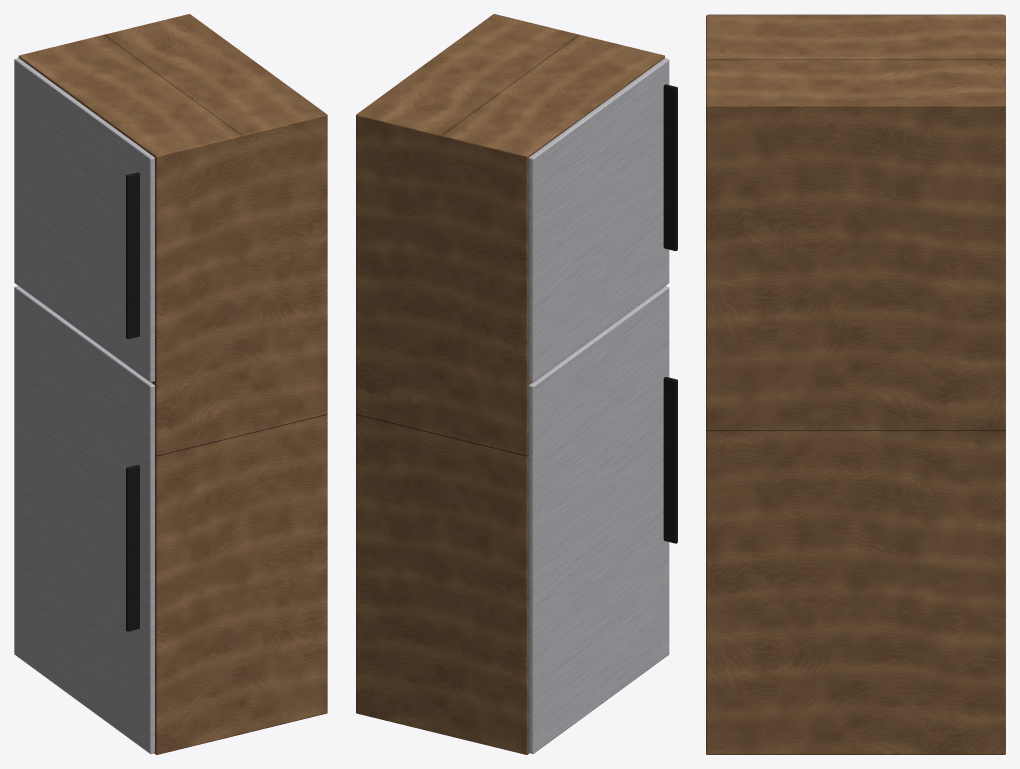
Rendered from kitchen_fridge.glb.
3 views of the same model, side by side, from view 1: azimuth 30°, elevation 25°; view 2: azimuth 150°, elevation 25°; view 3: azimuth 270°, elevation 25° (orthographic). The views are drawn at different scales.
Visible parts, largest first — view 1: kitchen_fridge; view 2: kitchen_fridge; view 3: kitchen_fridge.
Boxes of the visible parts, x1,y1,x2,y2 form: kitchen_fridge: (14, 14, 327, 754); kitchen_fridge: (356, 14, 677, 754); kitchen_fridge: (706, 14, 1005, 754).
Size of the model in its own units: 0.74 by 2.2 by 0.92.
Materials: 3 (3 with a texture image).
